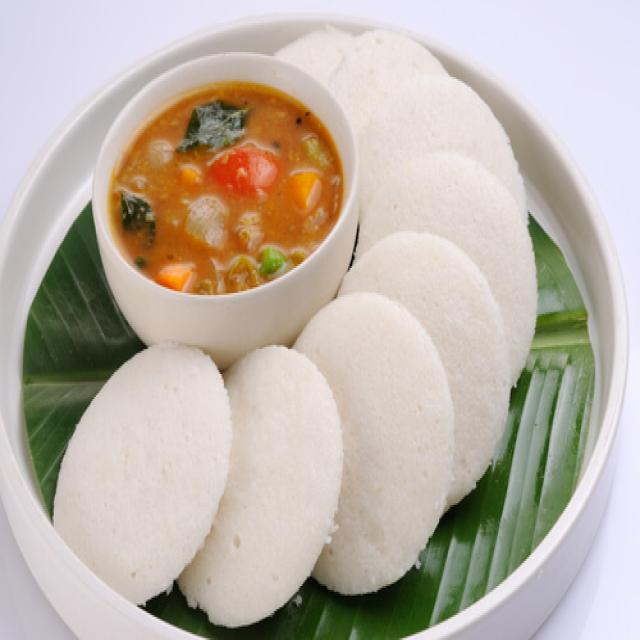IDLI: (330, 231, 511, 502), (298, 294, 455, 597), (54, 345, 232, 606), (178, 346, 342, 629), (349, 146, 539, 387), (358, 75, 531, 220), (329, 26, 445, 131), (278, 30, 367, 83)
